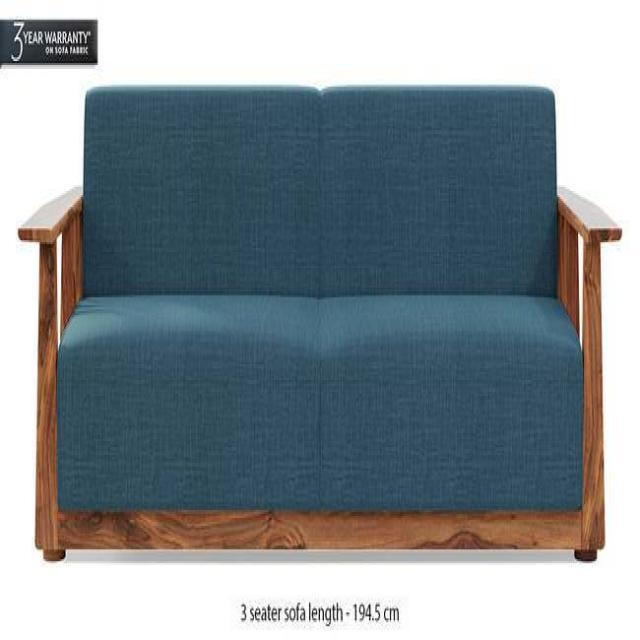sofa: (18, 80, 622, 562)
